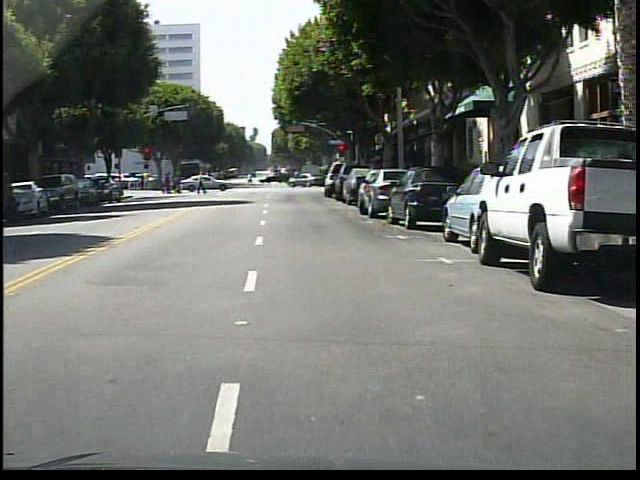person: (196, 167, 216, 196)
